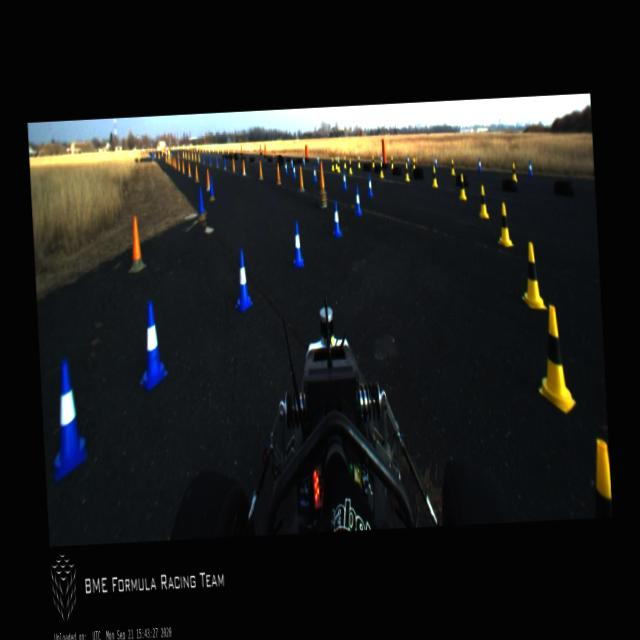blue_cone: (48, 358, 88, 482), (136, 300, 168, 391), (232, 249, 254, 311), (291, 220, 305, 268), (330, 200, 342, 238), (353, 185, 363, 216), (366, 173, 374, 197), (342, 169, 348, 191), (312, 163, 318, 182), (528, 160, 534, 177), (477, 158, 482, 172), (284, 158, 288, 174), (292, 162, 296, 178), (434, 154, 438, 168), (406, 153, 409, 166)
unknown_cone: (126, 216, 147, 274), (317, 160, 327, 194), (197, 187, 206, 220), (298, 165, 306, 192), (208, 174, 215, 202), (274, 161, 282, 185), (193, 164, 200, 183), (258, 159, 264, 181), (205, 168, 211, 190), (186, 162, 192, 178), (241, 158, 246, 177), (231, 158, 236, 172), (223, 155, 227, 172)
yellow_cone: (534, 304, 577, 414), (518, 241, 548, 311), (592, 439, 612, 518), (494, 200, 514, 248), (477, 184, 489, 220), (458, 173, 467, 200), (431, 164, 438, 188), (511, 162, 518, 182), (404, 162, 411, 182), (378, 160, 384, 178), (450, 157, 455, 176), (336, 157, 341, 173), (330, 156, 335, 172), (348, 158, 352, 174), (357, 154, 361, 170), (343, 154, 347, 170), (412, 156, 416, 172), (390, 155, 394, 170), (372, 154, 375, 170), (335, 156, 338, 169)
